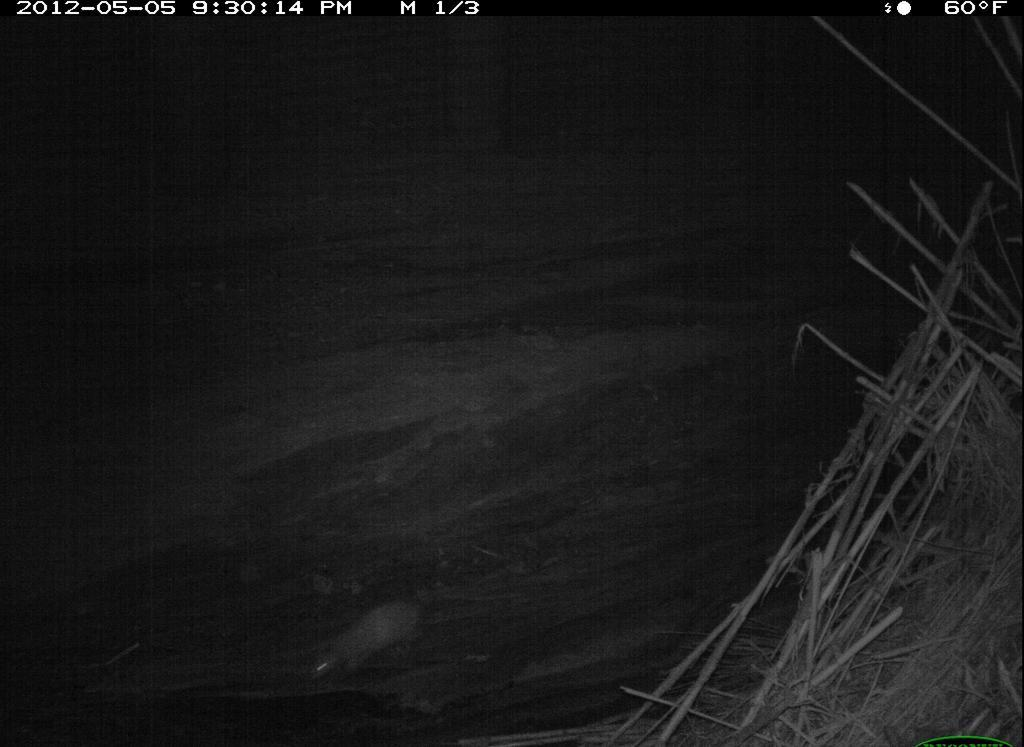opossum: (291, 582, 447, 692)
